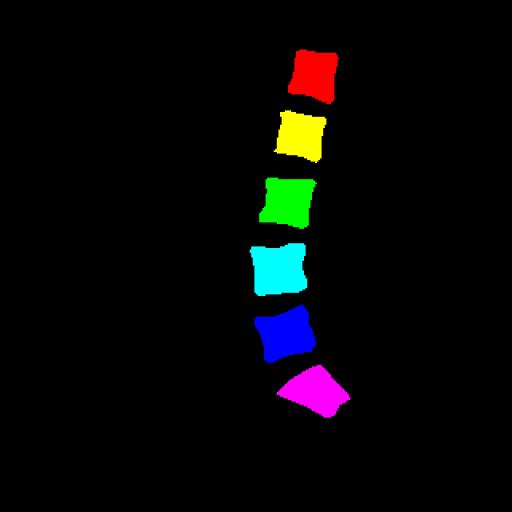L1: (288, 50, 338, 104)
L2: (274, 110, 326, 162)
L3: (259, 178, 316, 228)
L4: (250, 243, 307, 296)
L5: (253, 305, 314, 366)
S1: (277, 365, 350, 418)
